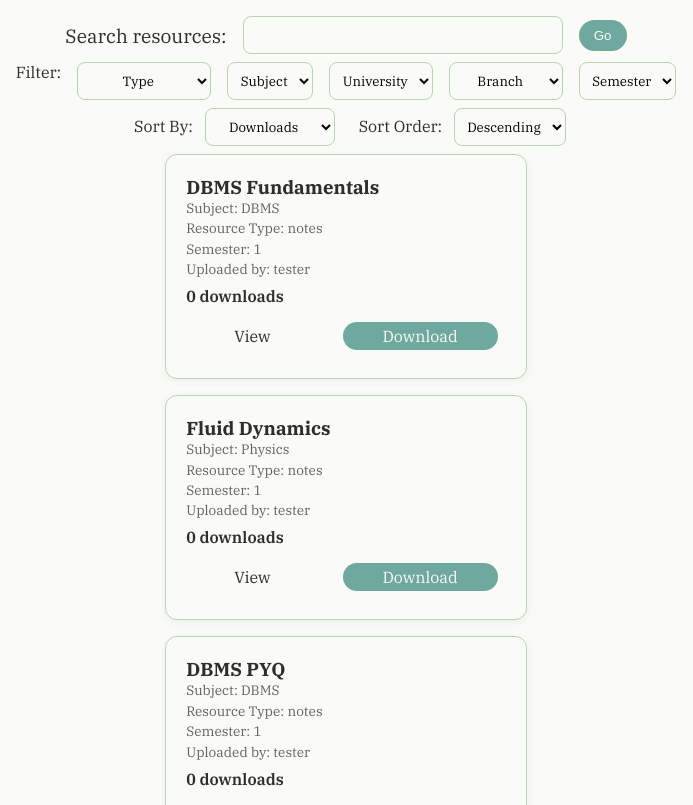
Test: Browse › fetches the resource with user-selected subject via filter
Expected: the heading "DBMS Fundamentals" is shown, [186, 175, 379, 199]
Expected: the heading "Fluid Dynamics" is shown, [186, 416, 331, 440]
Select "DBMS" in the 2nd dropdown showing "Subject" at {"x": 270, "y": 81}, box [227, 62, 313, 100]
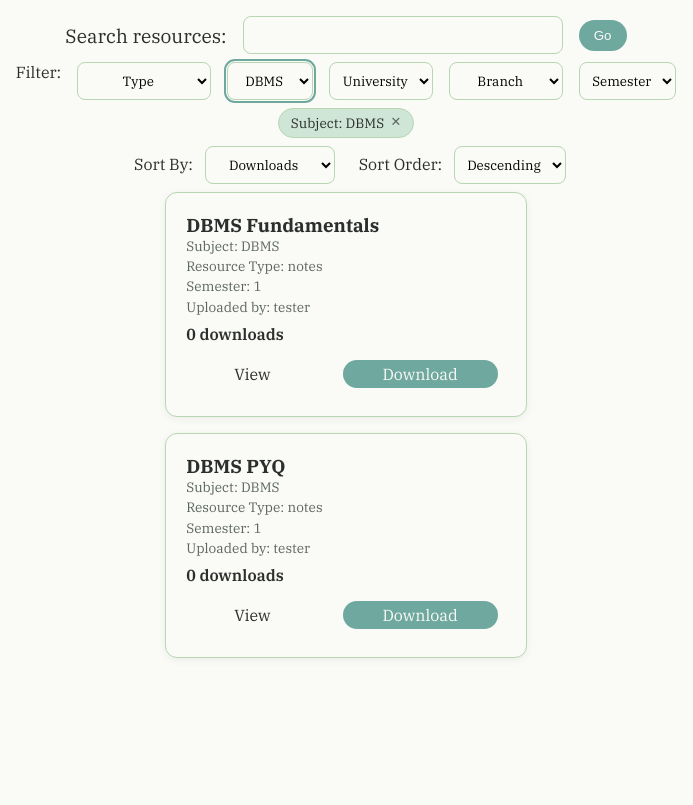
Expected: the heading "DBMS Fundamentals" is shown, [186, 213, 379, 237]
Expected: the heading "Fluid Dynamics" is gone
